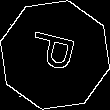P_E: (26, 31, 84, 79)
